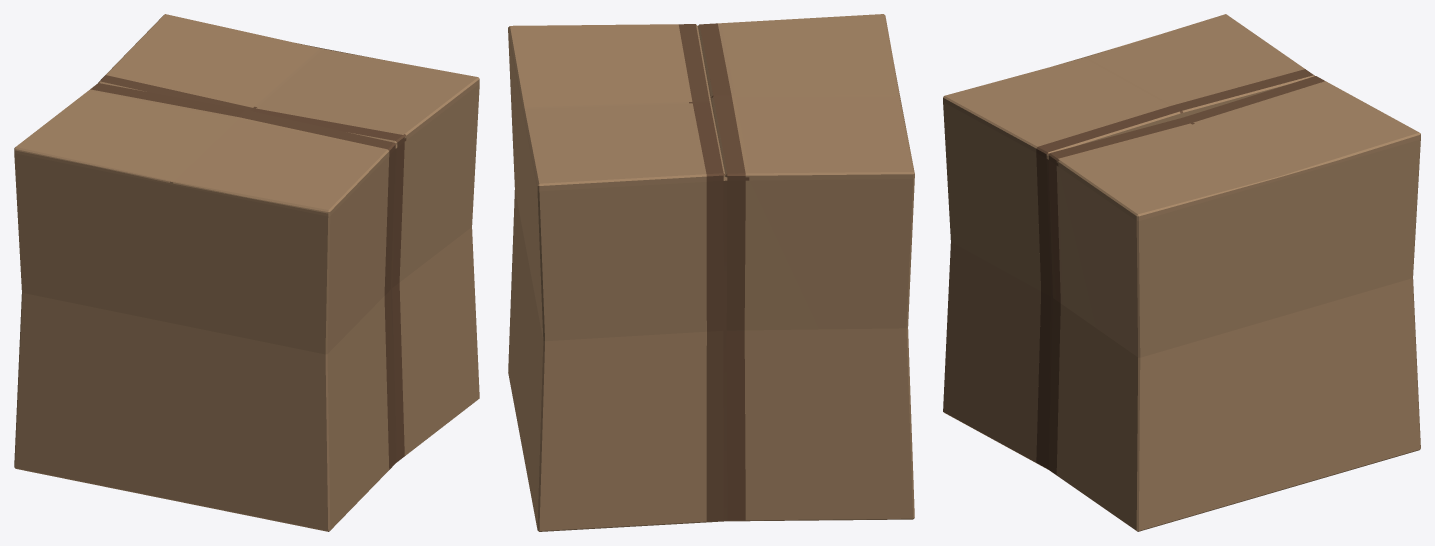
Rendered from create.glb.
3 views of the same model, side by side, from view 1: azimuth 30°, elevation 25°; view 2: azimuth 150°, elevation 25°; view 3: azimuth 270°, elevation 25° (orthographic). The views are drawn at different scales.
Visible parts, largest first — view 1: Cube.019; view 2: Cube.019; view 3: Cube.019.
Part boxes in pixels (x1=…): Cube.019: x1=14, y1=14, x2=479, y2=531; Cube.019: x1=508, y1=14, x2=914, y2=531; Cube.019: x1=943, y1=14, x2=1420, y2=531.
Size of the model in its own units: 2.21 by 1.63 by 2.21.
